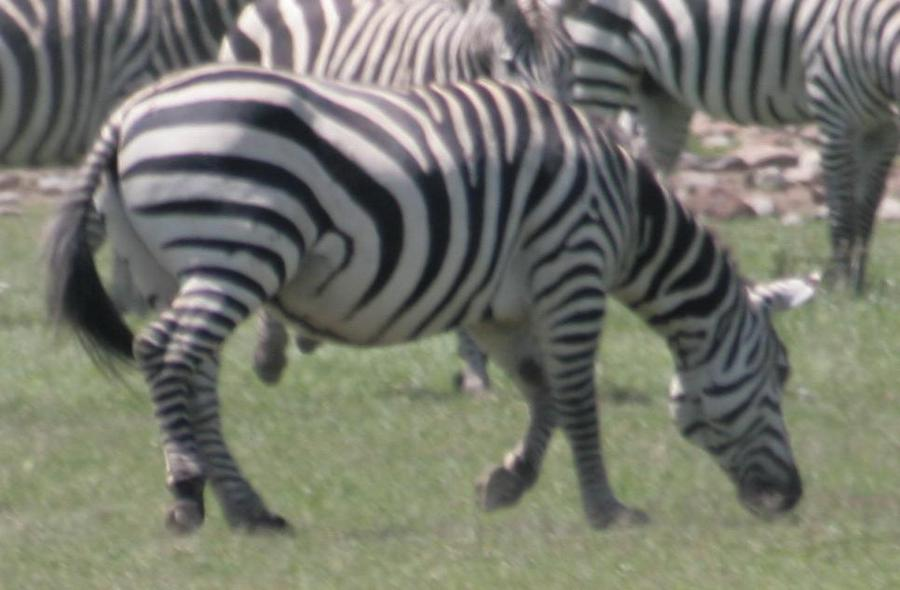zebra_plains: (94, 3, 673, 400)
